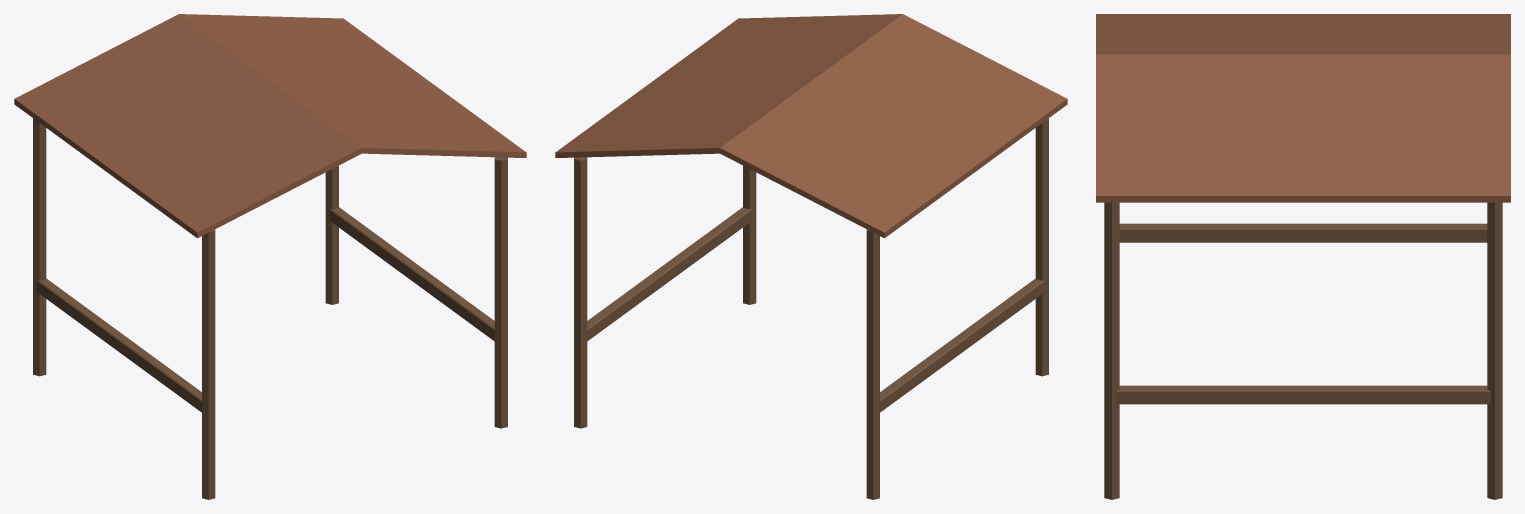
The model's file is gazebo-roof.glb.
3 views of the same model, side by side, from view 1: azimuth 30°, elevation 25°; view 2: azimuth 150°, elevation 25°; view 3: azimuth 270°, elevation 25° (orthographic). The views are drawn at different scales.
Parts seen in each view (by area): view 1: gazebo-roof__body; view 2: gazebo-roof__body; view 3: gazebo-roof__body.
Boxes of the visible parts, x1,y1,x2,y2 form: gazebo-roof__body: [14, 14, 526, 499]; gazebo-roof__body: [555, 14, 1067, 499]; gazebo-roof__body: [1096, 14, 1510, 499].
Bounding box in the file's own units: 2.7 × 2.49 × 2.6.
